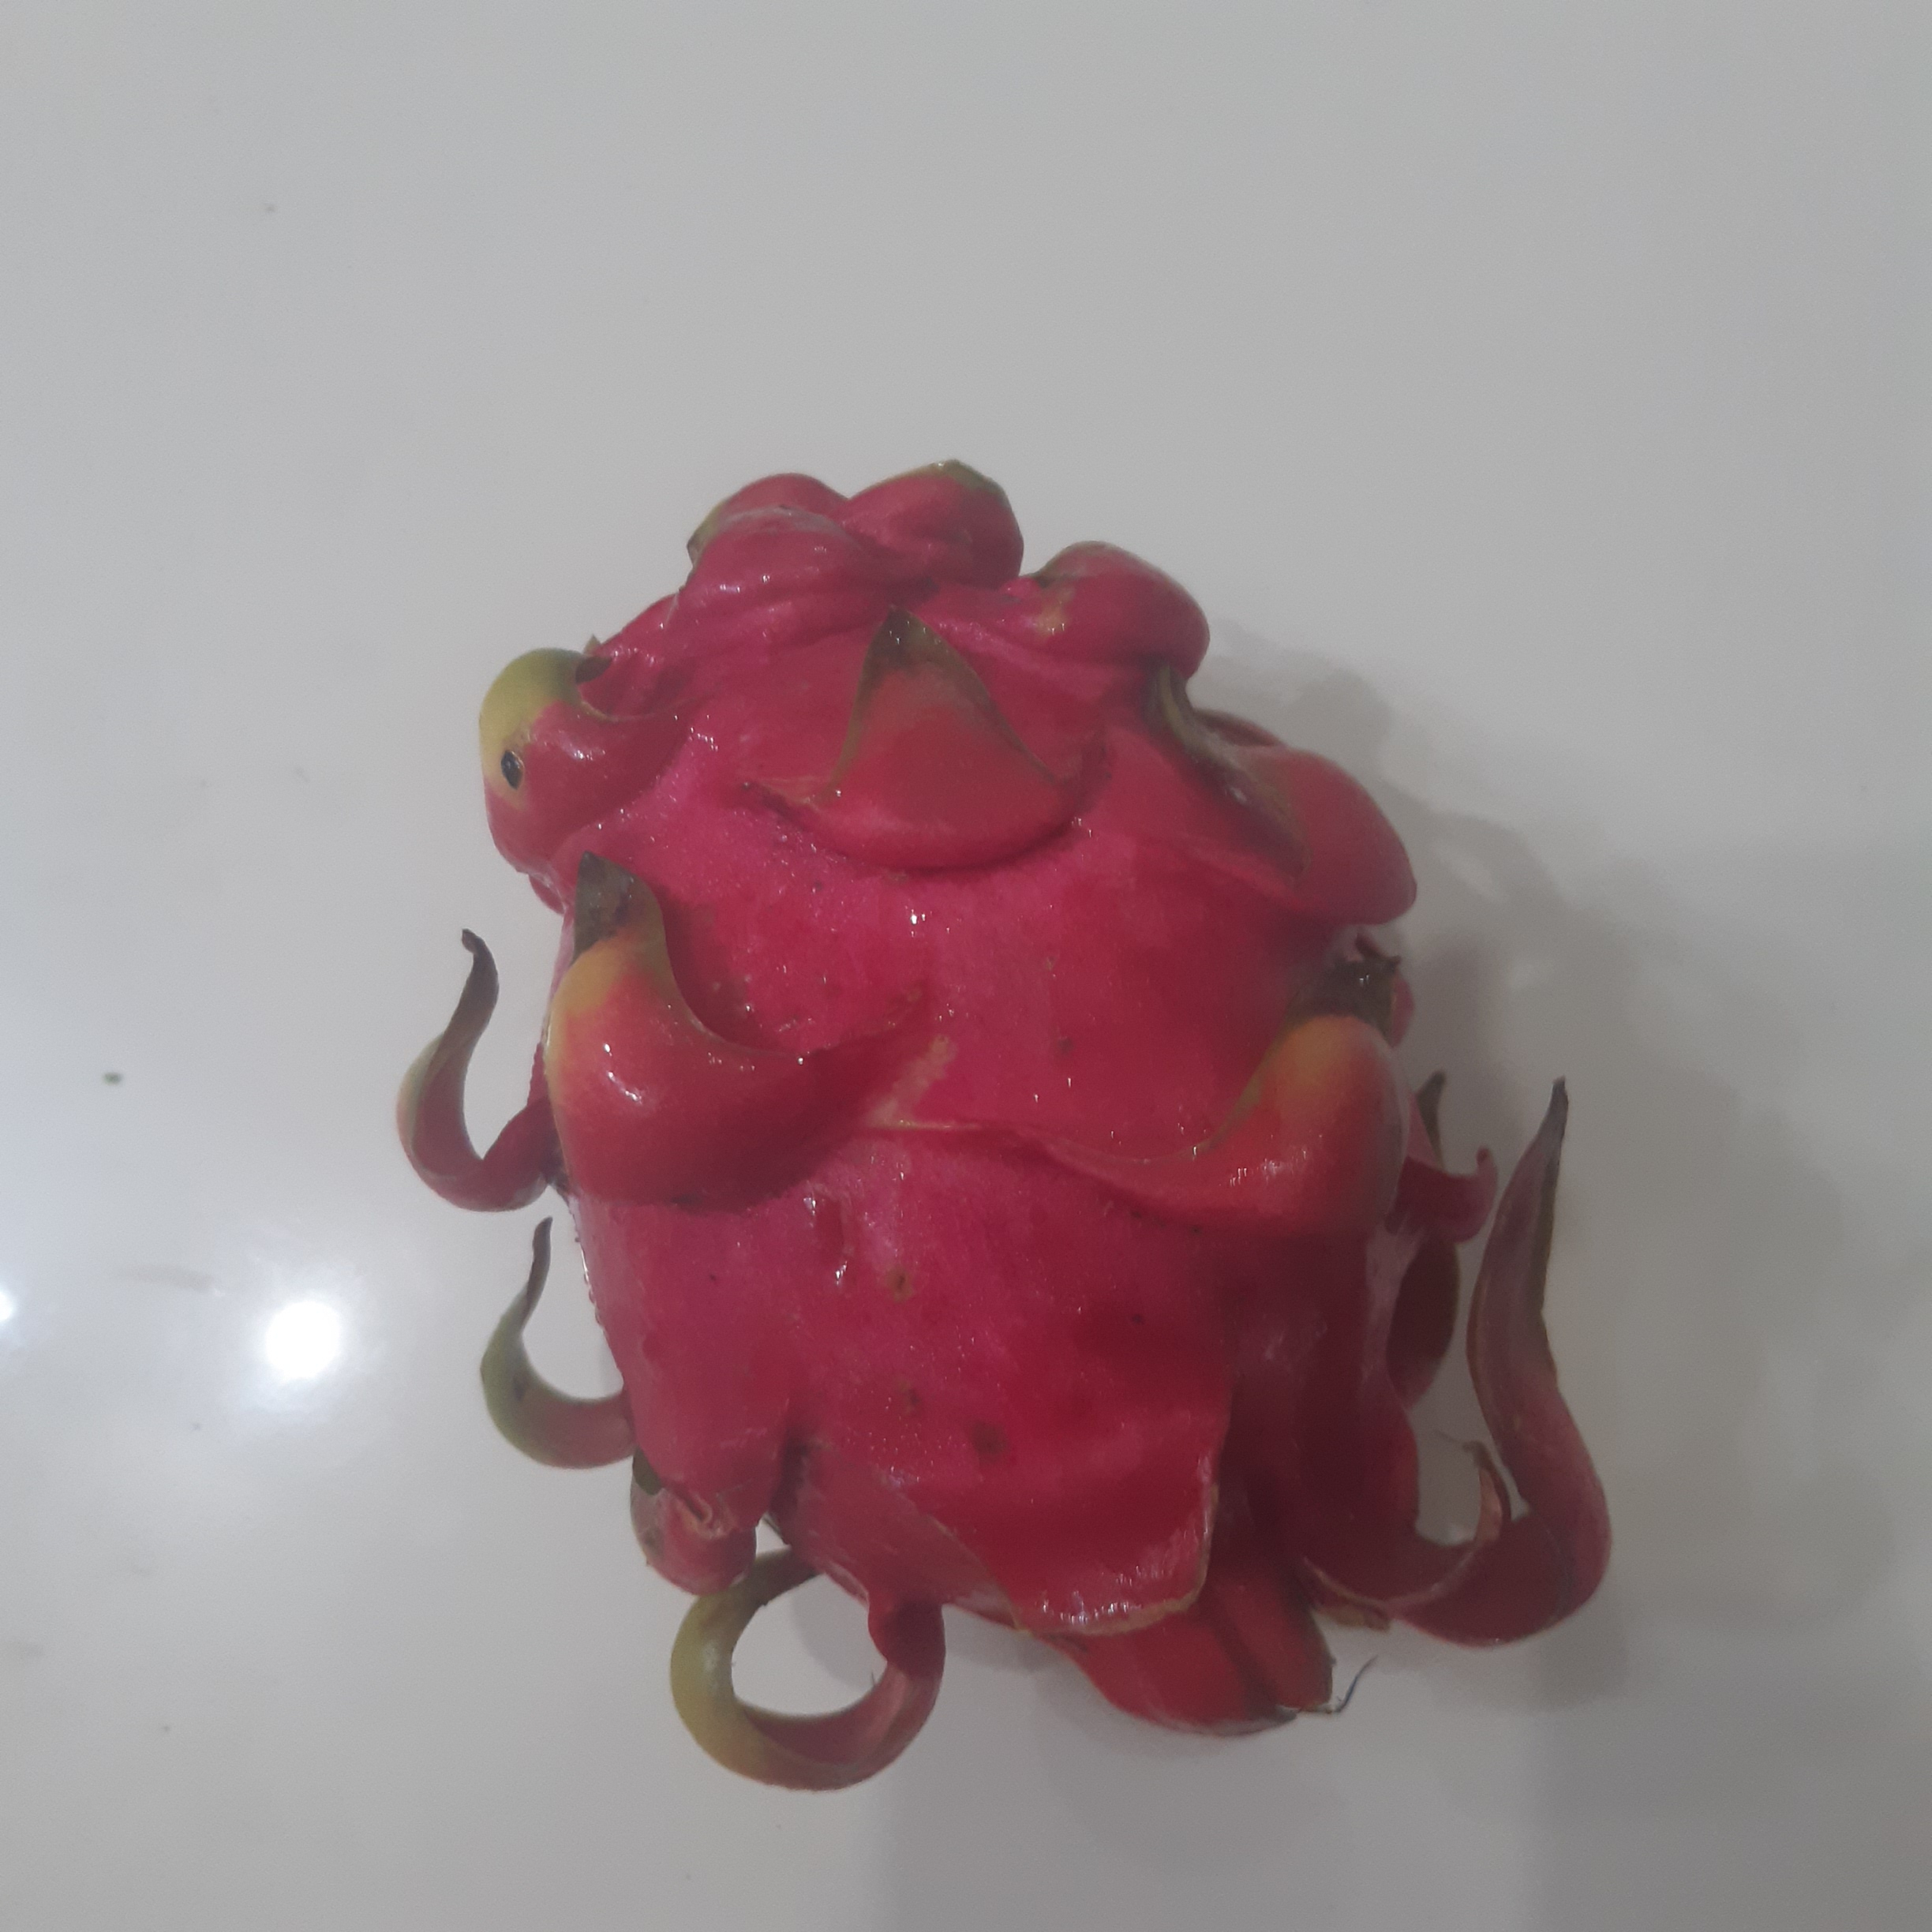Thanh long: (483, 467, 1463, 1744)
